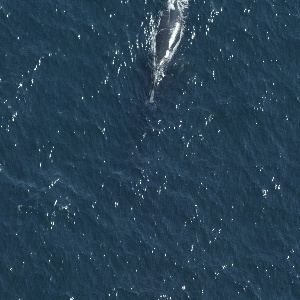cetacean: (138, 1, 192, 106)
